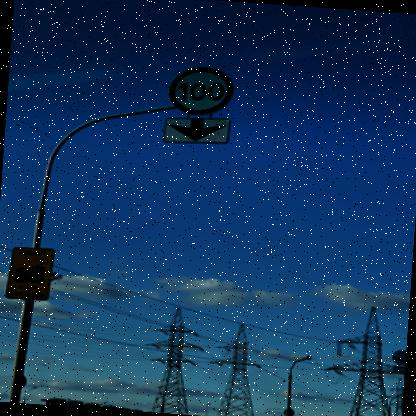speedlimit: (165, 62, 233, 114)
